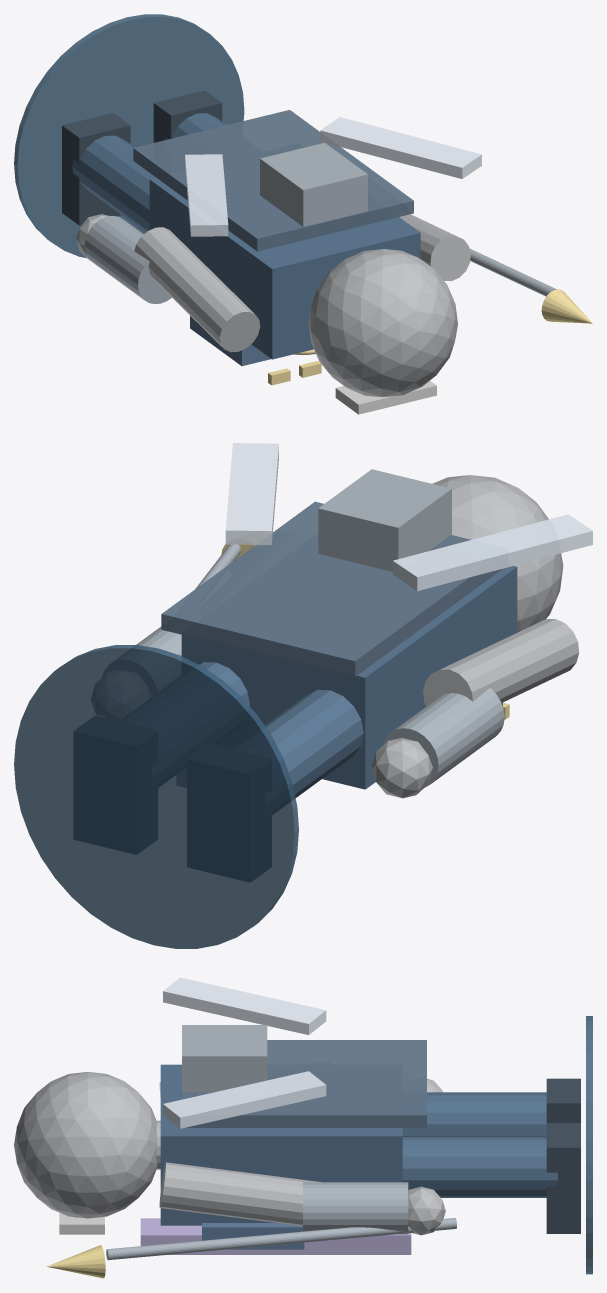
The model's file is SW_NPC_024_yara_firemast.glb.
3 renders of one model, top to bottom at view 1: azimuth 30°, elevation 25°; view 2: azimuth 150°, elevation 25°; view 3: azimuth 270°, elevation 25°, orthographic. The views are drawn at different scales.
Visible parts, largest first — view 1: round_base_plate, head, torso_uniform, storm_cloak, wingpack_core, left_upper_arm, right_wing_rig, left_leg, left_forearm_gauntlet, left_boot, left_wing_rig, right_upper_arm (+6 smaller); view 2: round_base_plate, storm_cloak, torso_uniform, wingpack_core, left_upper_arm, head, left_wing_rig, left_leg, left_forearm_gauntlet, right_wing_rig, left_hand, right_forearm_gauntlet (+1 smaller); view 3: head, torso_uniform, storm_cloak, right_leg, right_upper_arm, left_leg, wingpack_core, right_forearm_gauntlet, right_wing_rig, left_wing_rig, rank_sash, right_boot (+7 smaller).
Part boxes in pixels (x1=…): round_base_plate: x1=14, y1=14, x2=244, y2=258; head: x1=308, y1=249, x2=457, y2=397; torso_uniform: x1=149, y1=177, x2=420, y2=359; storm_cloak: x1=133, y1=110, x2=413, y2=251; wingpack_core: x1=260, y1=142, x2=367, y2=226; left_upper_arm: x1=134, y1=227, x2=260, y2=352; right_wing_rig: x1=320, y1=117, x2=481, y2=178; left_leg: x1=72, y1=135, x2=155, y2=232; left_forearm_gauntlet: x1=84, y1=216, x2=171, y2=303; left_boot: x1=62, y1=113, x2=130, y2=225; left_wing_rig: x1=185, y1=154, x2=228, y2=236; right_upper_arm: x1=399, y1=214, x2=470, y2=280; round_base_plate: x1=14, y1=645, x2=298, y2=948; storm_cloak: x1=161, y1=501, x2=502, y2=676; torso_uniform: x1=181, y1=566, x2=517, y2=789; wingpack_core: x1=318, y1=469, x2=451, y2=571; left_upper_arm: x1=423, y1=619, x2=579, y2=706; head: x1=432, y1=475, x2=563, y2=632; left_wing_rig: x1=392, y1=514, x2=592, y2=590; left_leg: x1=265, y1=689, x2=363, y2=798; left_forearm_gauntlet: x1=382, y1=688, x2=504, y2=787; right_wing_rig: x1=225, y1=443, x2=278, y2=544; left_hand: x1=371, y1=737, x2=432, y2=798; right_forearm_gauntlet: x1=136, y1=627, x2=181, y2=655; head: x1=14, y1=1072, x2=157, y2=1218; torso_uniform: x1=160, y1=1064, x2=402, y2=1225; storm_cloak: x1=182, y1=1040, x2=426, y2=1127; right_leg: x1=402, y1=1136, x2=557, y2=1197; right_upper_arm: x1=159, y1=1162, x2=321, y2=1226; left_leg: x1=402, y1=1092, x2=546, y2=1136; wingpack_core: x1=182, y1=1025, x2=267, y2=1092; right_forearm_gauntlet: x1=303, y1=1182, x2=408, y2=1234; right_wing_rig: x1=163, y1=1071, x2=326, y2=1128; left_wing_rig: x1=163, y1=977, x2=326, y2=1034; rank_sash: x1=140, y1=1218, x2=411, y2=1254; right_boot: x1=546, y1=1123, x2=580, y2=1233.
Size of the model in its own units: 1.35 by 0.9072 by 2.03.
